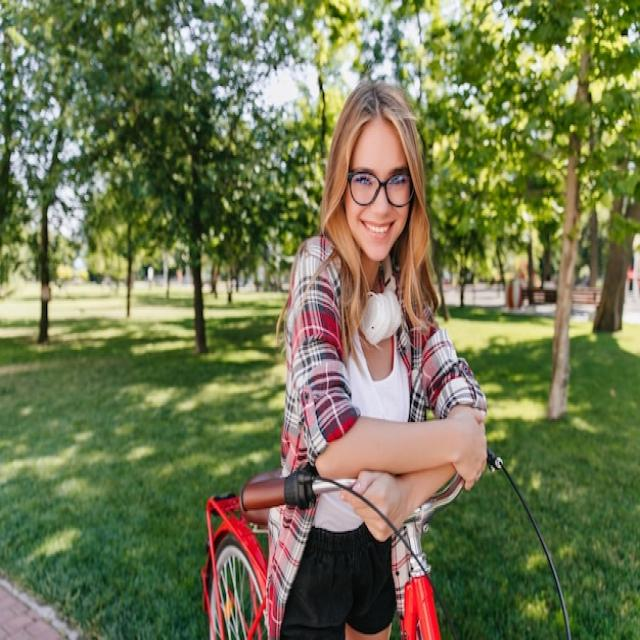Headphone: (356, 254, 405, 345)
